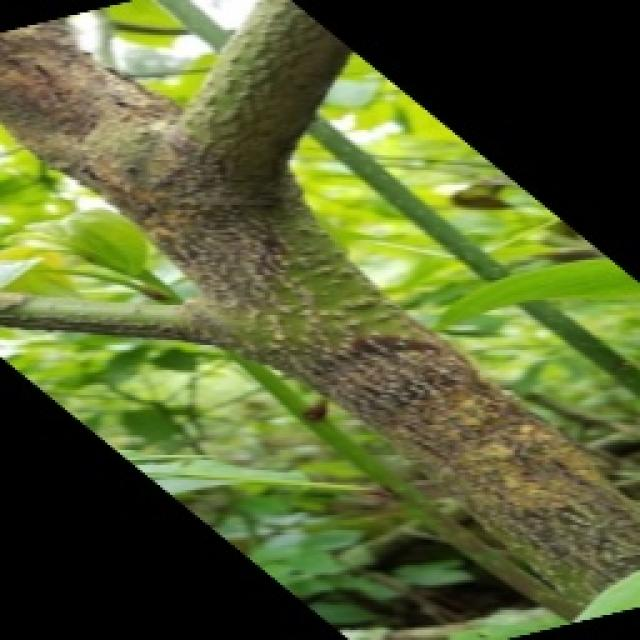Golden_canker: (2, 2, 640, 638)
